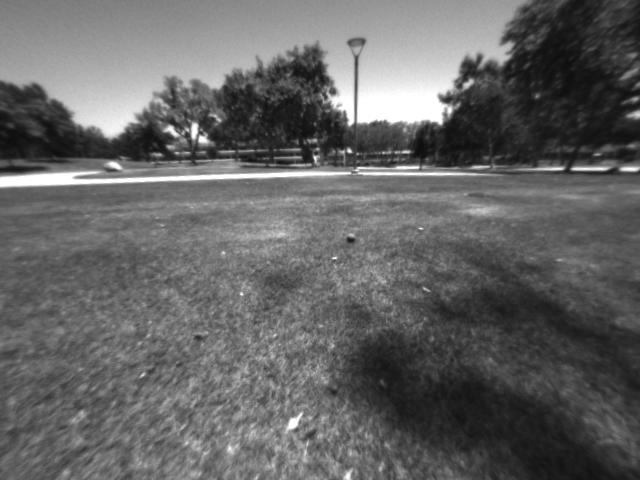dogtoy: (337, 218, 368, 252)
